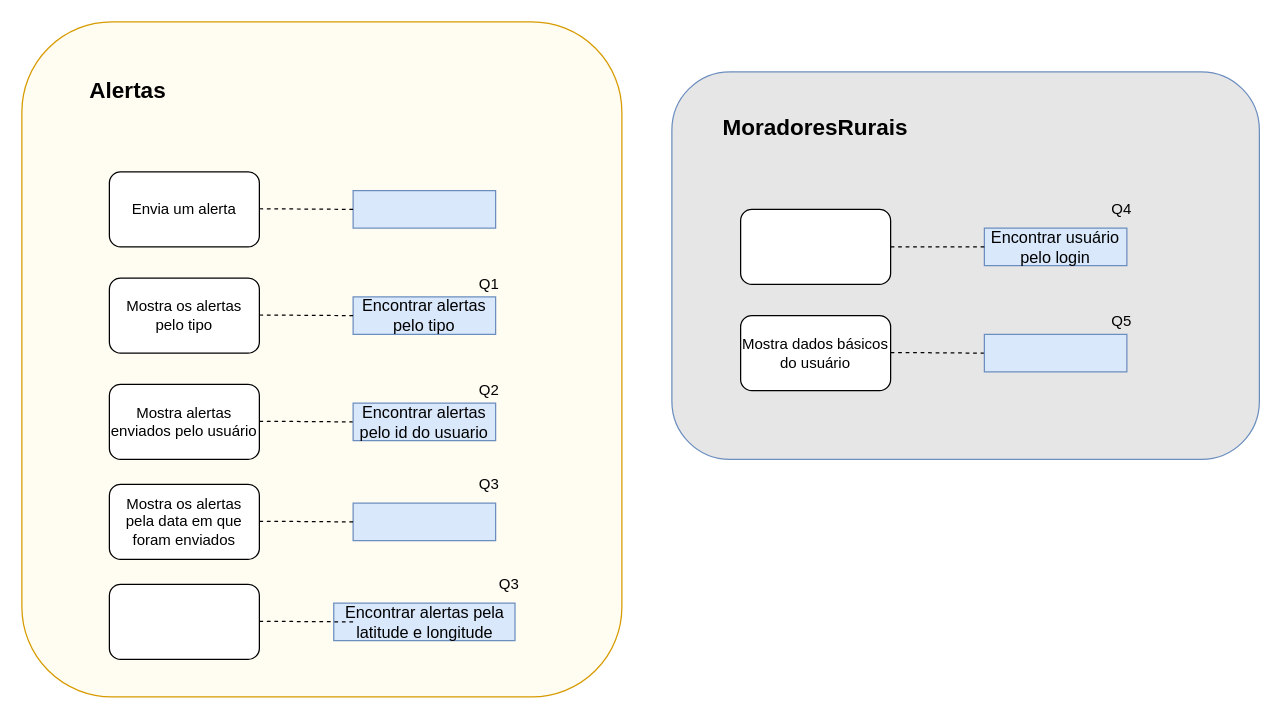
Image size: 1281x719. Some labels were removed from this diagram. Here are the shapes that lost their labels. From the top down, the centre of each, then its label:
At pixel 424 208: "Salvar o alerta".
At pixel 815 246: "Usuário entra no aplicativo".
At pixel 1055 352: "Encontrar usuário pelo id".
At pixel 424 521: "Encontrar alertas pela data".
At pixel 183 621: "Mostra os alertas pela localidade".
